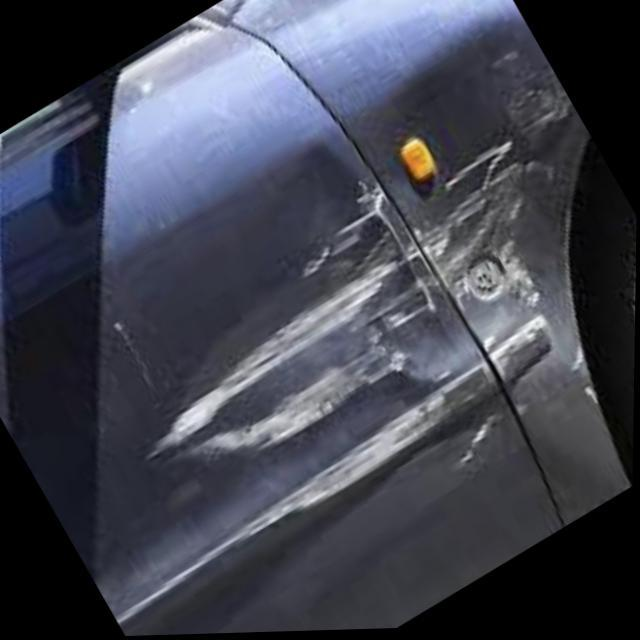dent: (142, 140, 596, 535)
